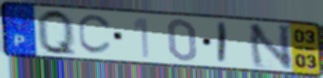0: (166, 18, 199, 64)
1: (133, 17, 151, 60)
C: (76, 13, 115, 56)
I: (215, 21, 229, 66)
N: (247, 24, 296, 71)
Q: (35, 7, 79, 59)
